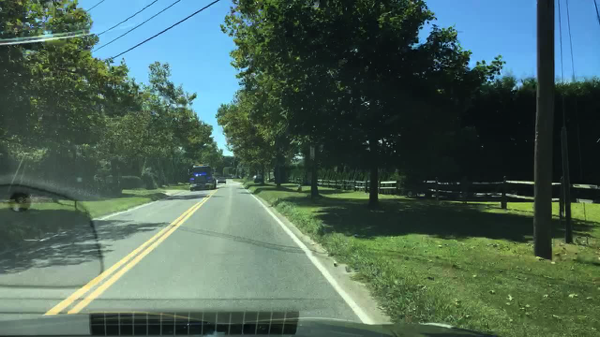car: (252, 174, 263, 182), (216, 177, 226, 184)
traffic sign: (308, 145, 315, 160)
truck: (187, 164, 218, 191)
